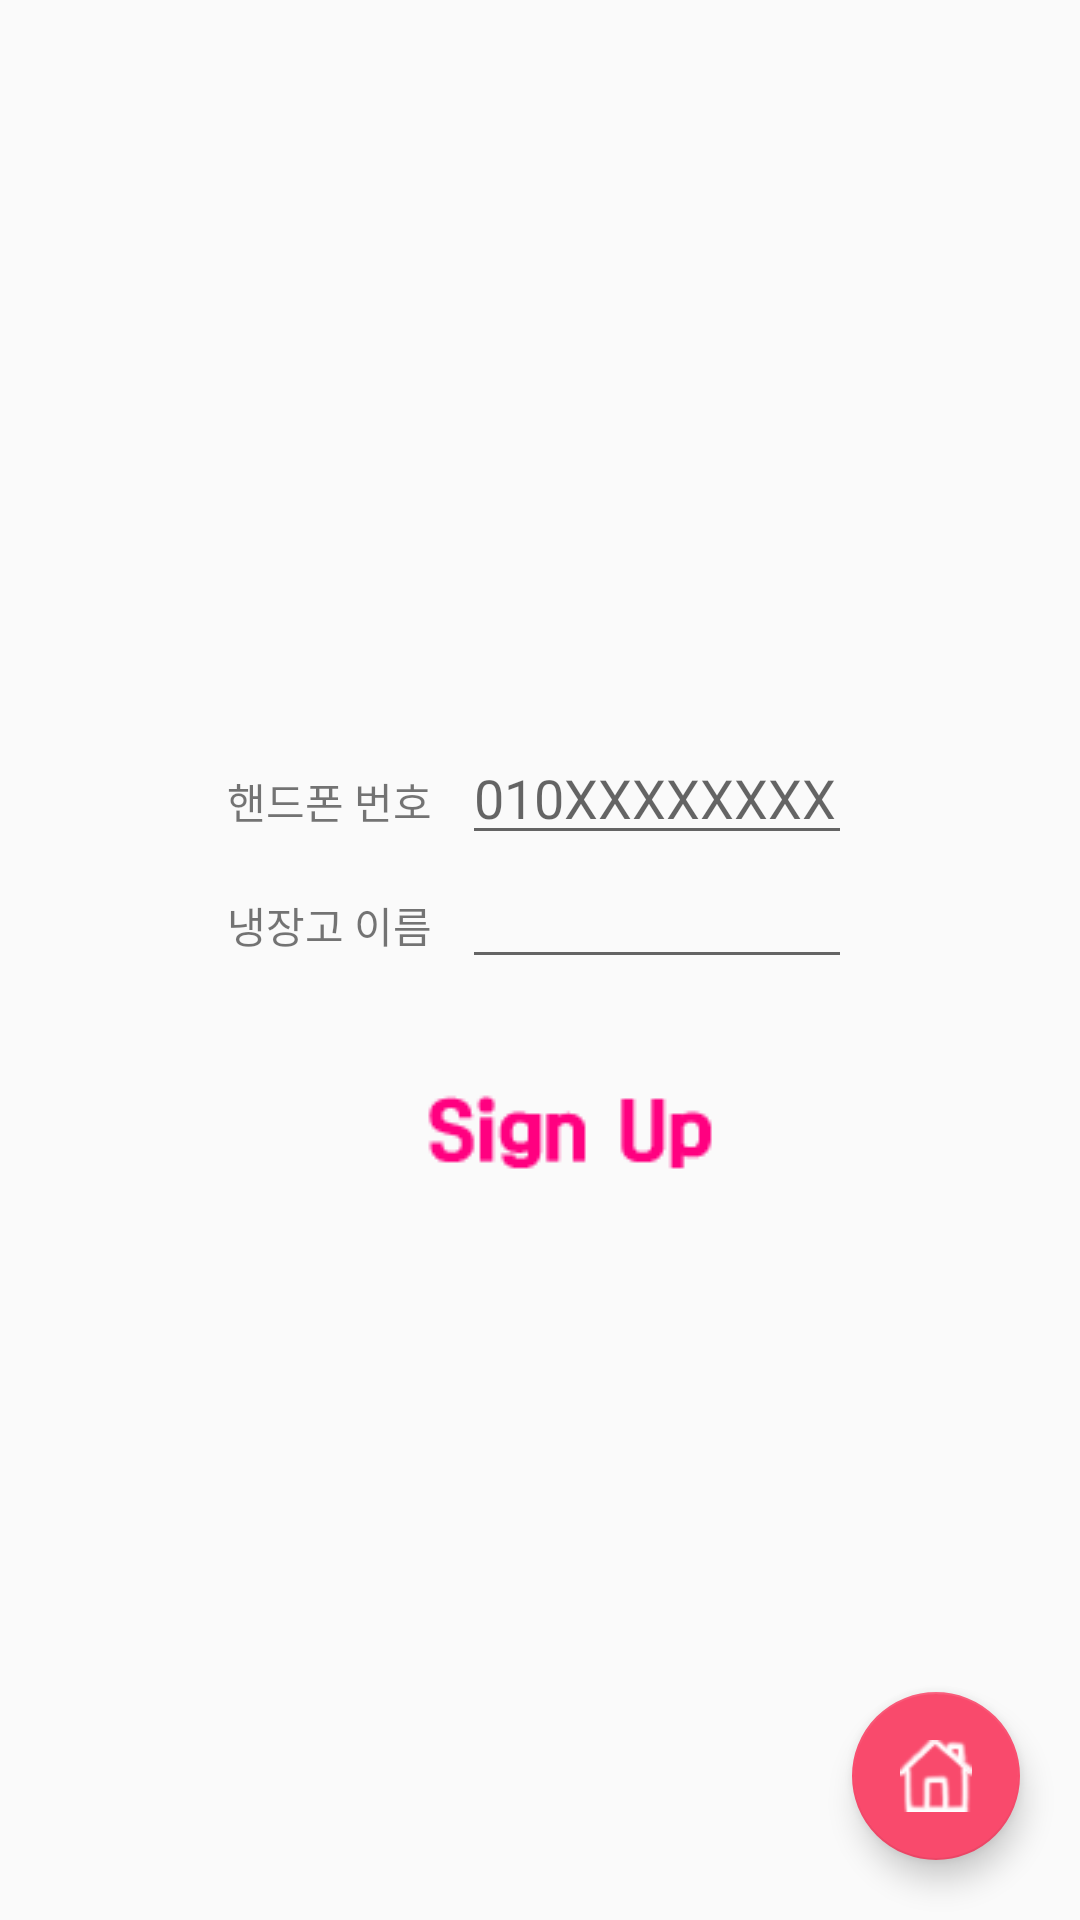

Icons on this 1080 × 1920 Android screen, each with the point to tap as (x,y):
home: (936,1776)
